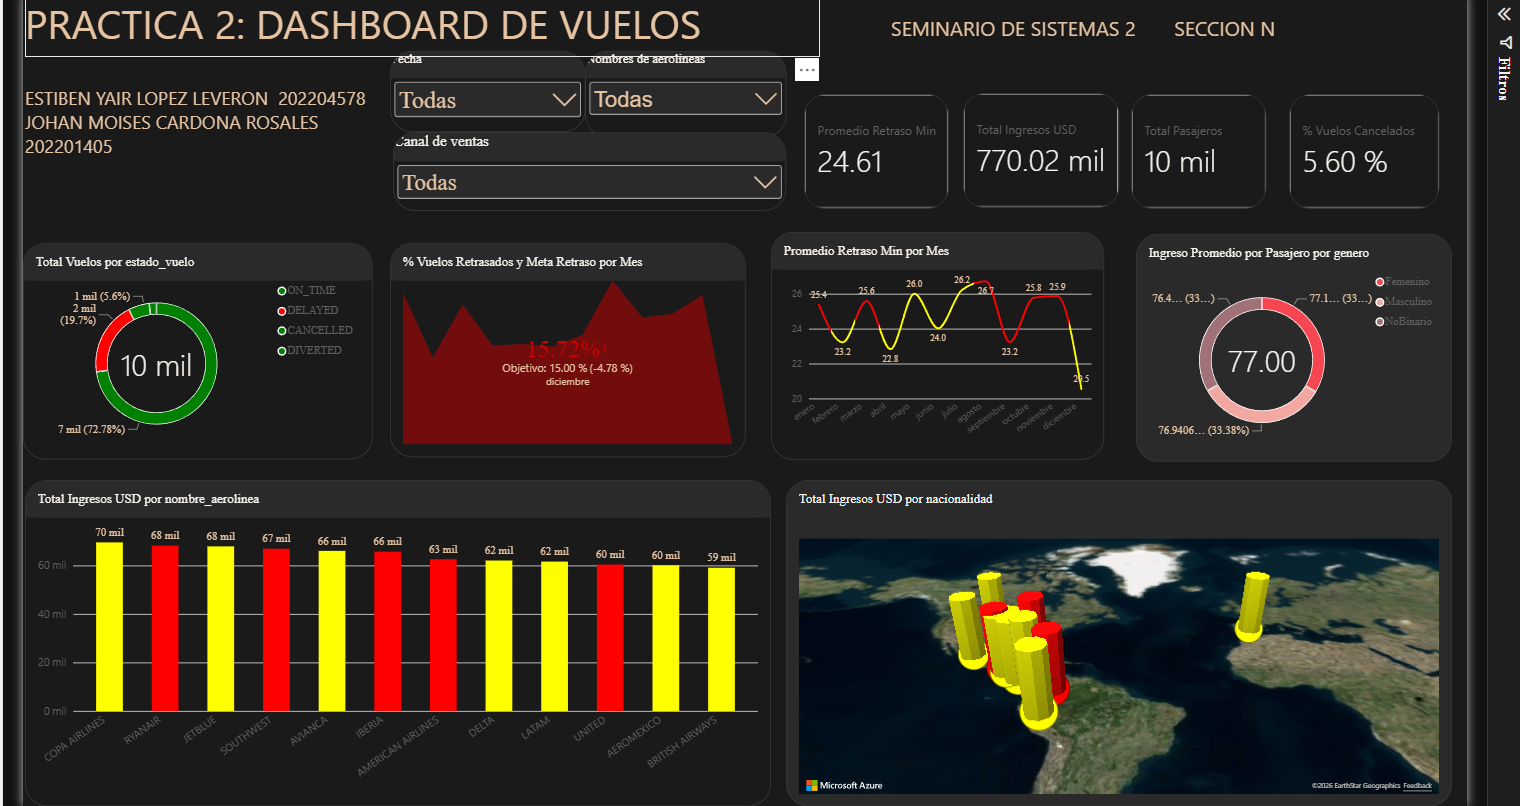

Layout of this report page (visuals, bound fields, positions):
{"tool":"powerbi","page":{"name":"PRACTICA 2","canvas":[1920,1080],"ordinal":0},"visuals":[{"type":"kpi","fields":{"Goal":["_Medidas.Meta Retraso"],"Indicator":["_Medidas.% Vuelos Retrasados"],"TrendLine":["Fact_Vuelos.fecha_salida.Variación.Jerarquía de fechas.Mes"]},"box":[487.5,330,472.5,285],"z":0},{"type":"columnChart","fields":{"Category":["Dim_Aerolinea.nombre_aerolinea"],"Y":["_Medidas.Total Ingresos USD"]},"box":[2.5,645,992.2,434.2],"z":1000},{"type":"lineChart","fields":{"Category":["Fact_Vuelos.fecha_salida.Variación.Jerarquía de fechas.Mes"],"Y":["_Medidas.Promedio Retraso Min"]},"box":[995,315,442.5,302.5],"z":2000},{"type":"donutChart","fields":{"Category":["Dim_DetalleVuelo.estado_vuelo"],"Y":["_Medidas.Total Vuelos"]},"box":[0,330,465,287.5],"z":3000},{"type":"slicer","title":"Nombres de aerolineas","fields":{"Values":["Dim_Aerolinea.nombre_aerolinea"]},"box":[747.5,75,267.5,115],"z":4000},{"type":"slicer","title":"Canal de ventas","fields":{"Values":["Dim_Transaccion.canal_venta Jerarquía.canal_venta","Dim_Transaccion.canal_venta Jerarquía.moneda_original"]},"box":[492.5,182.5,522.5,105],"z":5000},{"type":"slicer","title":"Fecha","fields":{"Values":["Fact_Vuelos.fecha_llegada.Variación.Jerarquía de fechas.Año","Fact_Vuelos.fecha_llegada.Variación.Jerarquía de fechas.Mes","Fact_Vuelos.fecha_llegada.Variación.Jerarquía de fechas.Día"]},"box":[487.5,75,260,107.5],"z":6000},{"type":"azureMap","fields":{"Category":["Dim_Pasajero.nacionalidad"],"Size":["_Medidas.Total Ingresos USD"]},"box":[1015,645,885.8,434.2],"z":7000},{"type":"donutChart","fields":{"Category":["Dim_Pasajero.genero"],"Y":["_Medidas.Ingreso Promedio por Pasajero"]},"box":[1480,317.5,420,302.5],"z":8000},{"type":"cardVisual","fields":{"Data":["_Medidas.Promedio Retraso Min"]},"box":[1038.6,131.2,192.5,152.5],"z":9000},{"type":"cardVisual","fields":{"Data":["_Medidas.Total Ingresos USD"]},"box":[1250,130,207.5,152.5],"z":10000},{"type":"cardVisual","fields":{"Data":["_Medidas.Total Pasajeros"]},"box":[1473.6,131.2,180,152.5],"z":11000},{"type":"cardVisual","fields":{"Data":["_Medidas.% Vuelos Cancelados"]},"box":[1683.6,131.2,200,152.5],"z":12000},{"type":"textbox","box":[2.5,0,1057.5,82.5],"z":13000},{"type":"textbox","box":[1155,25,607.5,37.5],"z":14000},{"type":"textbox","box":[2.5,120,462.5,197.5],"z":15000}]}

Visuals, with their boxes on the page's 1920x1080 design canvas (x1, y1, x2, y2). These are canvas units, not pixel positions in the 1520x806 screenshot, which may show the page scaled, cropped or inside an application window:
kpi - _Medidas.Meta Retraso x _Medidas.% Vuelos Retrasados: bbox(488, 330, 960, 615)
columnChart - Dim_Aerolinea.nombre_aerolinea x _Medidas.Total Ingresos USD: bbox(2, 645, 995, 1079)
lineChart - Fact_Vuelos.fecha_salida.Variación.Jerarquía de fechas.Mes x _Medidas.Promedio Retraso Min: bbox(995, 315, 1438, 618)
donutChart - Dim_DetalleVuelo.estado_vuelo x _Medidas.Total Vuelos: bbox(0, 330, 465, 618)
"Nombres de aerolineas" slicer: bbox(748, 75, 1015, 190)
"Canal de ventas" slicer: bbox(492, 182, 1015, 288)
"Fecha" slicer: bbox(488, 75, 748, 182)
azureMap - Dim_Pasajero.nacionalidad x _Medidas.Total Ingresos USD: bbox(1015, 645, 1901, 1079)
donutChart - Dim_Pasajero.genero x _Medidas.Ingreso Promedio por Pasajero: bbox(1480, 318, 1900, 620)
cardVisual - _Medidas.Promedio Retraso Min: bbox(1039, 131, 1231, 284)
cardVisual - _Medidas.Total Ingresos USD: bbox(1250, 130, 1458, 282)
cardVisual - _Medidas.Total Pasajeros: bbox(1474, 131, 1654, 284)
cardVisual - _Medidas.% Vuelos Cancelados: bbox(1684, 131, 1884, 284)
textbox: bbox(2, 0, 1060, 82)
textbox: bbox(1155, 25, 1762, 62)
textbox: bbox(2, 120, 465, 318)
